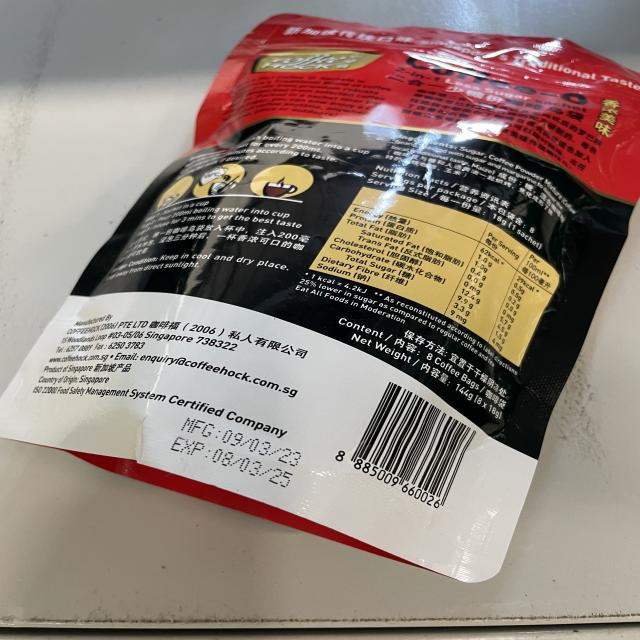object_name: (54, 28, 606, 533)
